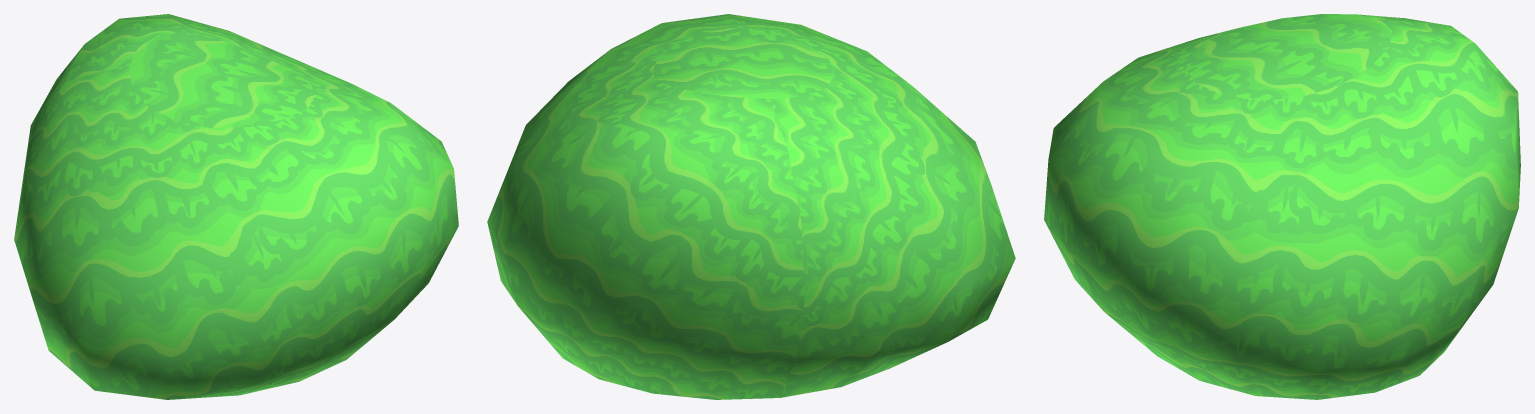
File: P_Bush_1.fbx
3 views of the same model, side by side, from view 1: azimuth 30°, elevation 25°; view 2: azimuth 150°, elevation 25°; view 3: azimuth 270°, elevation 25° (orthographic). The views are drawn at different scales.
Parts seen in each view (by area): view 1: Sphere.003; view 2: Sphere.003; view 3: Sphere.003.
Boxes of the visible parts, x1,y1,x2,y2 form: Sphere.003: (14,14,458,399); Sphere.003: (487,14,1015,399); Sphere.003: (1044,14,1520,399).
Bounding box in the file's own units: 2.78 × 1.74 × 2.65.
